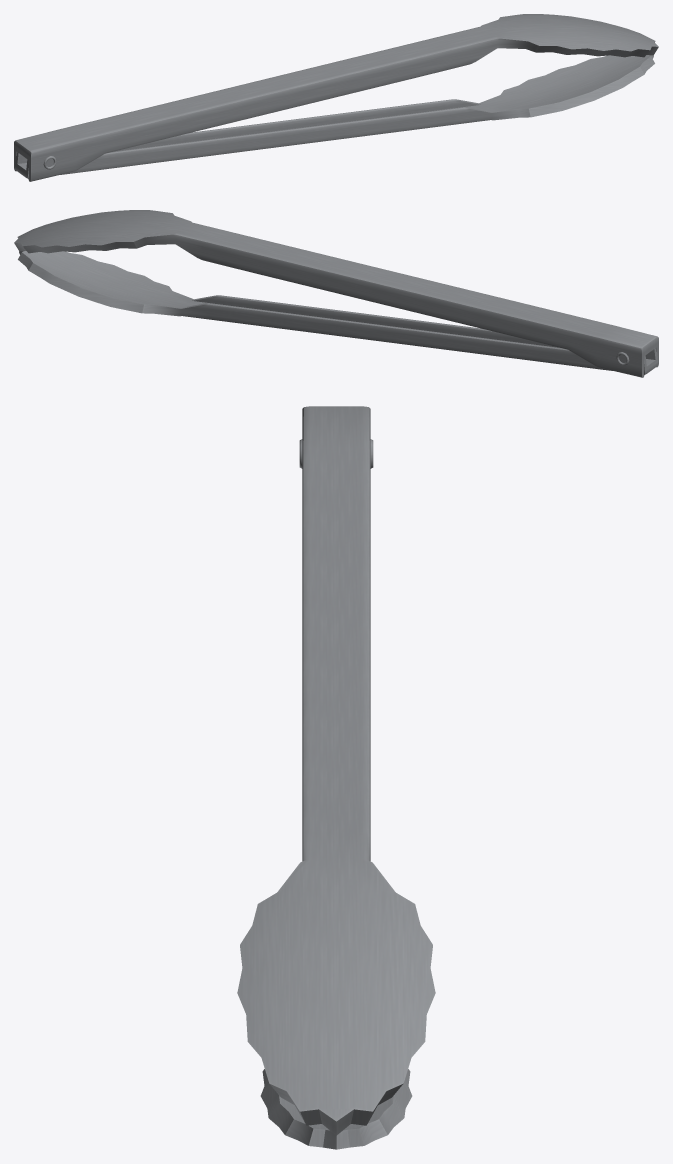
Rendered from tongs.fbx.
3 renders of one model, top to bottom at view 1: azimuth 30°, elevation 25°; view 2: azimuth 150°, elevation 25°; view 3: azimuth 270°, elevation 25°, orthographic. The views are drawn at different scales.
Visible parts, largest first — view 1: Tong_1, Tong_2; view 2: Tong_1, Tong_2; view 3: Tong_1, Tong_2.
Part boxes in pixels (x1,y1,x2,y2): Tong_1: [14, 14, 658, 181]; Tong_2: [14, 55, 654, 178]; Tong_1: [14, 210, 658, 377]; Tong_2: [18, 251, 658, 374]; Tong_1: [237, 406, 435, 1135]; Tong_2: [260, 1069, 412, 1149].
Bounding box in the file's own units: 0.3106 × 0.0421 × 0.0391.
